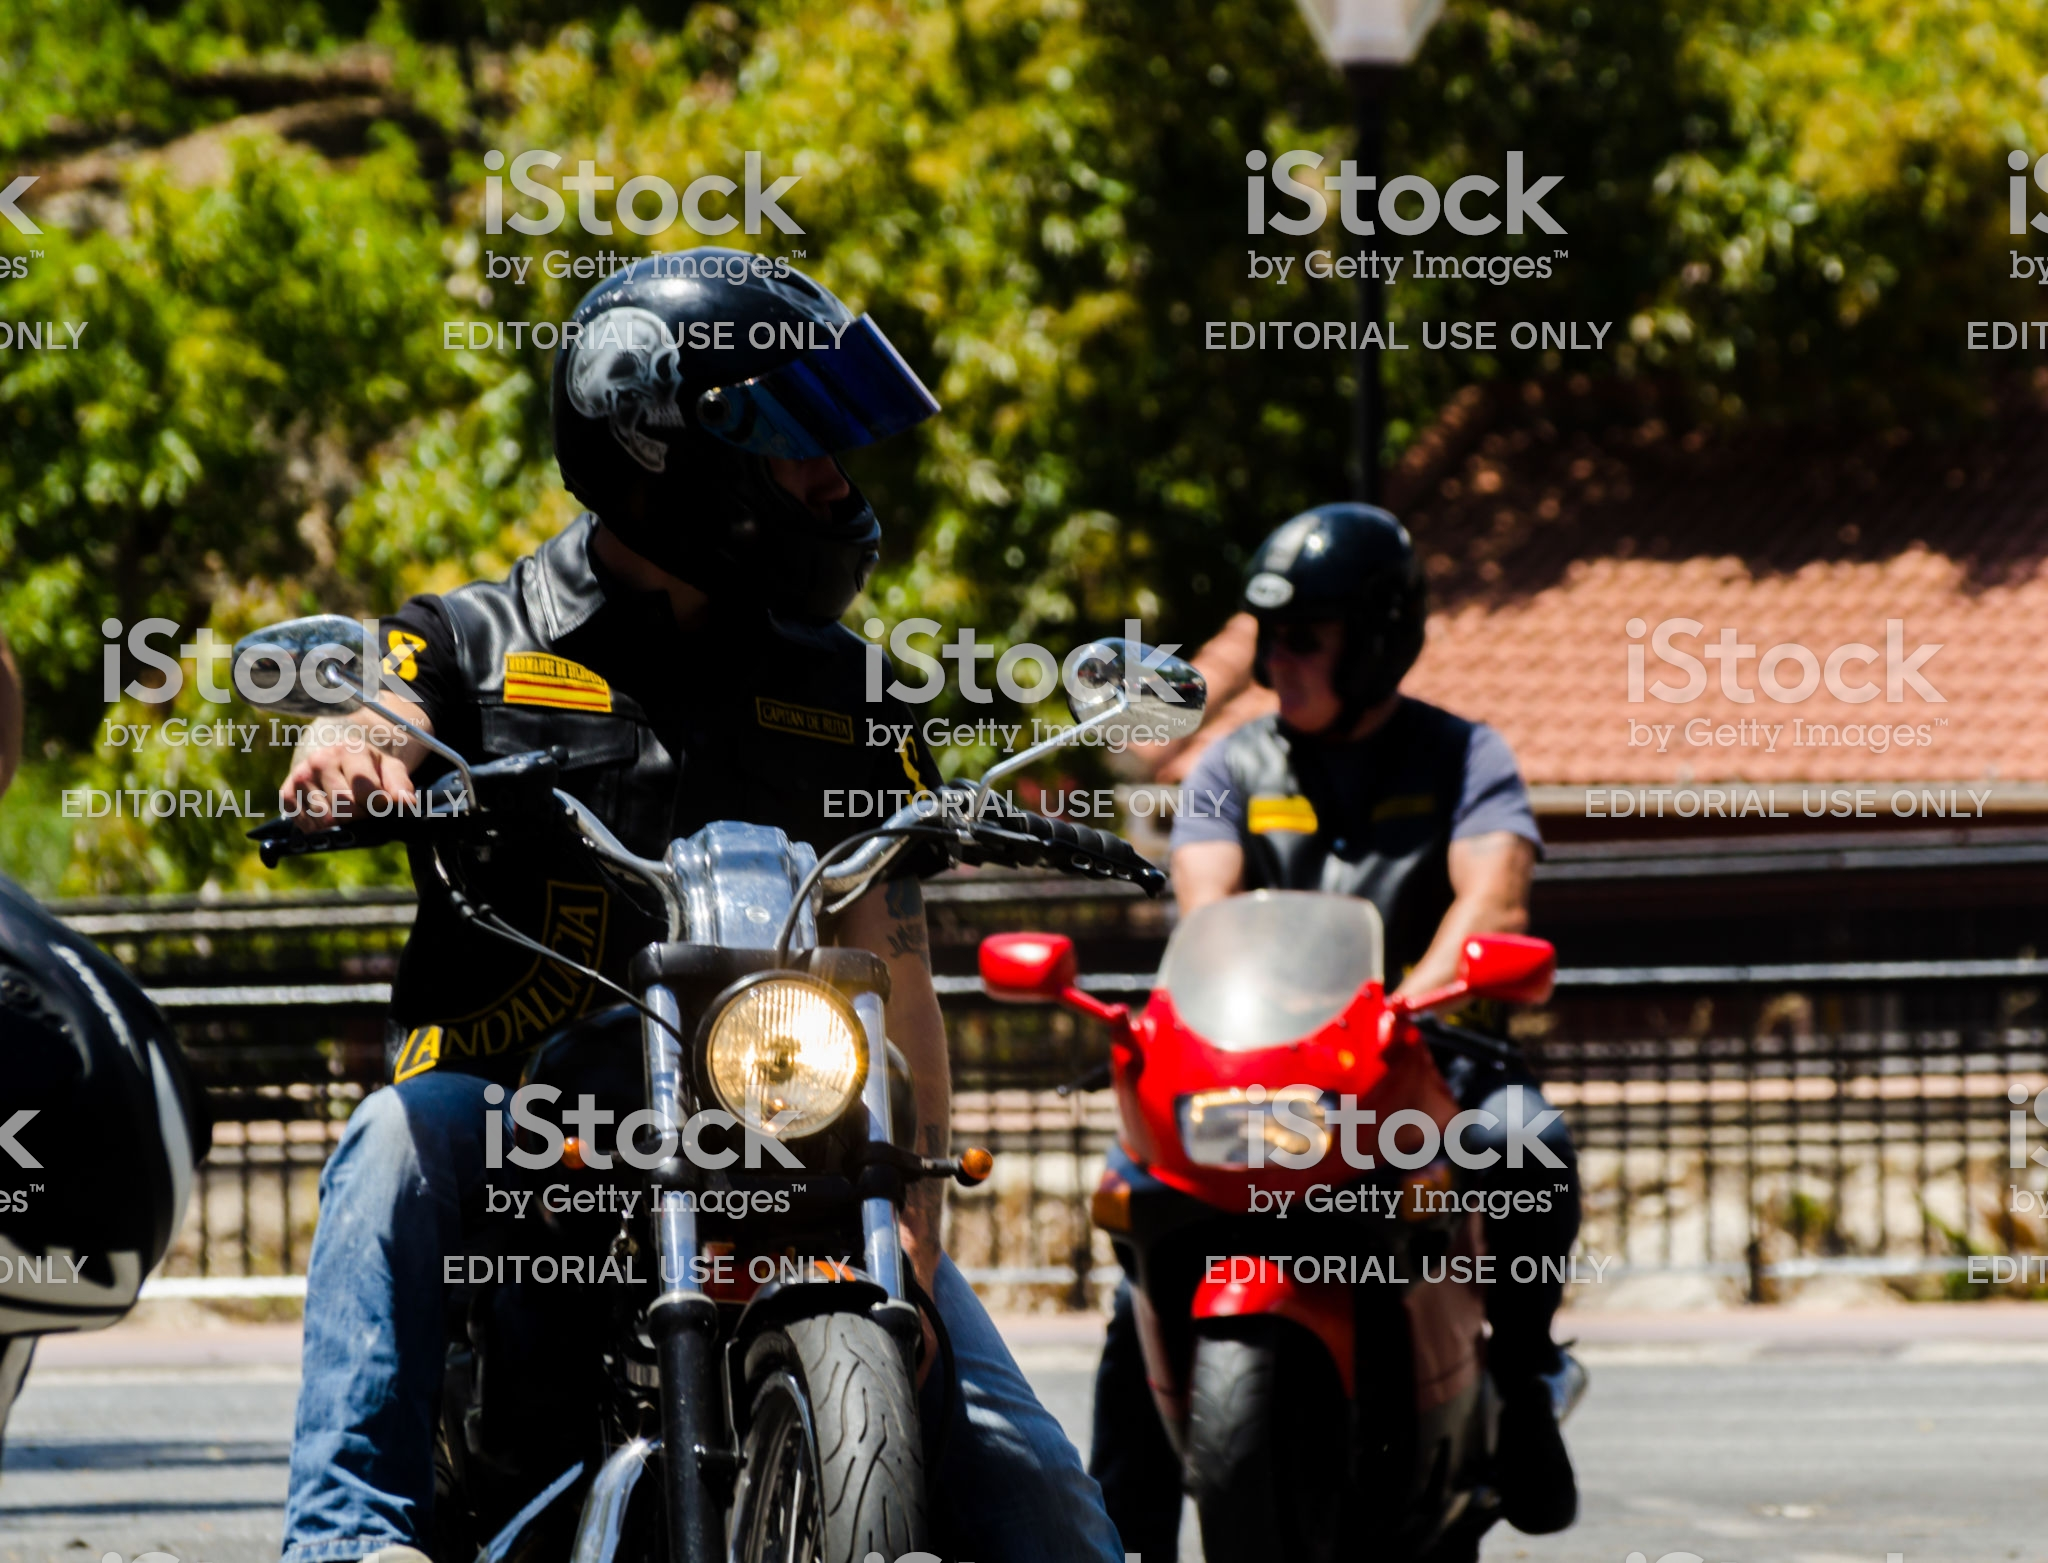helmet: (532, 241, 922, 588), (1232, 489, 1434, 680)
